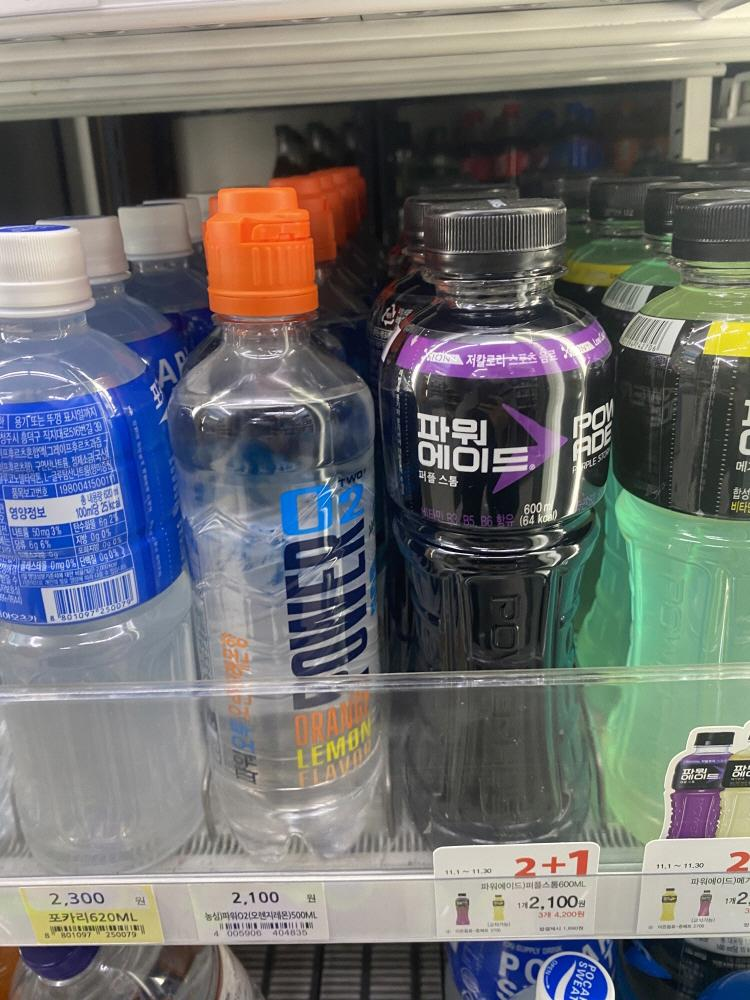powerO2_orange: (173, 190, 395, 873)
